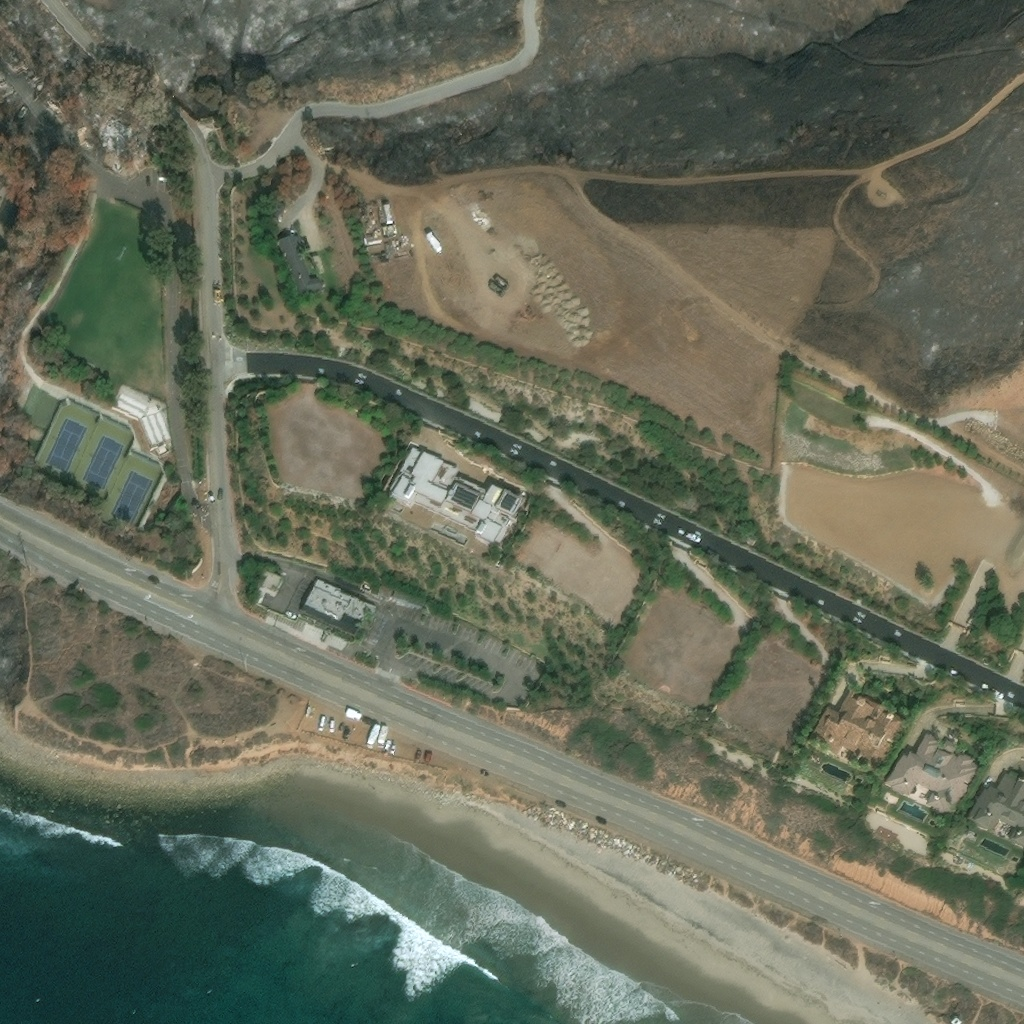0 no-damage: (385, 443, 526, 546), (883, 728, 980, 822), (808, 685, 897, 770), (111, 384, 174, 456), (966, 768, 1023, 847), (304, 573, 378, 620), (277, 234, 324, 299), (254, 568, 283, 594), (425, 229, 443, 251), (378, 202, 394, 224)
3 destroyed: (522, 525, 563, 562), (0, 21, 28, 69), (100, 111, 140, 143), (40, 90, 67, 118), (82, 128, 92, 139)
